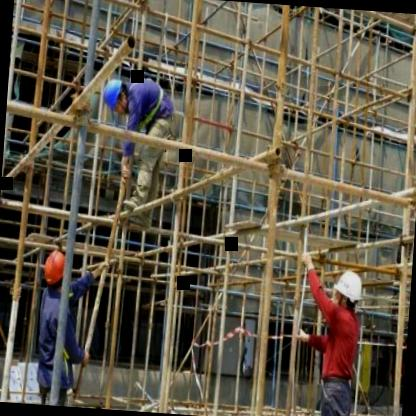helmet: (331, 268, 365, 318), (98, 76, 136, 116), (43, 248, 67, 288)
